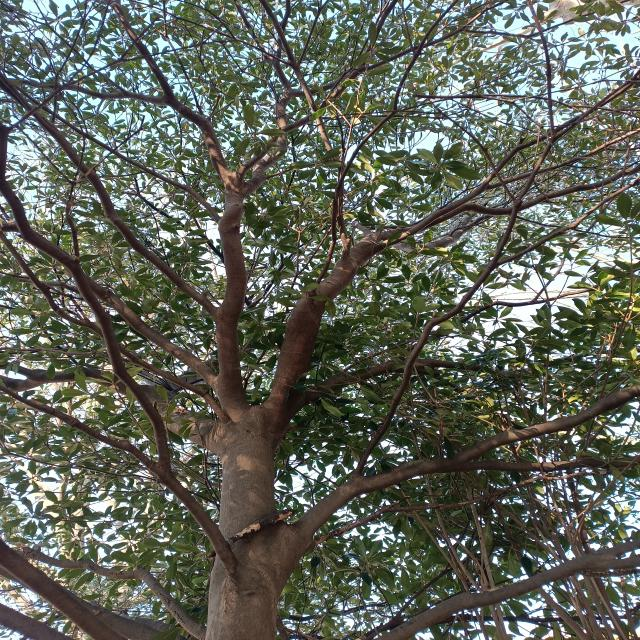Branch: (0, 122, 172, 475), (295, 384, 638, 532), (33, 400, 240, 579), (161, 93, 250, 419), (86, 274, 218, 386), (244, 67, 351, 196)
Twig: (355, 0, 557, 476), (0, 74, 214, 318), (379, 77, 639, 250), (0, 229, 231, 422), (309, 0, 456, 299), (2, 75, 221, 223), (237, 64, 364, 179), (425, 165, 640, 229), (259, 0, 340, 161), (499, 177, 640, 266), (363, 0, 508, 71), (490, 127, 640, 189), (102, 0, 174, 95), (0, 66, 167, 105), (558, 70, 640, 138), (0, 271, 88, 319), (463, 11, 597, 39), (0, 385, 45, 413)
